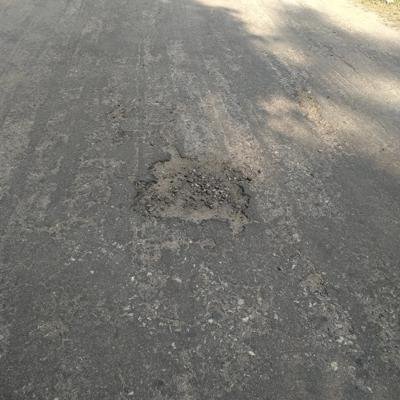Pothole: (124, 134, 257, 253)
